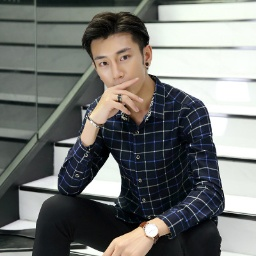face: (86, 11, 152, 96)
